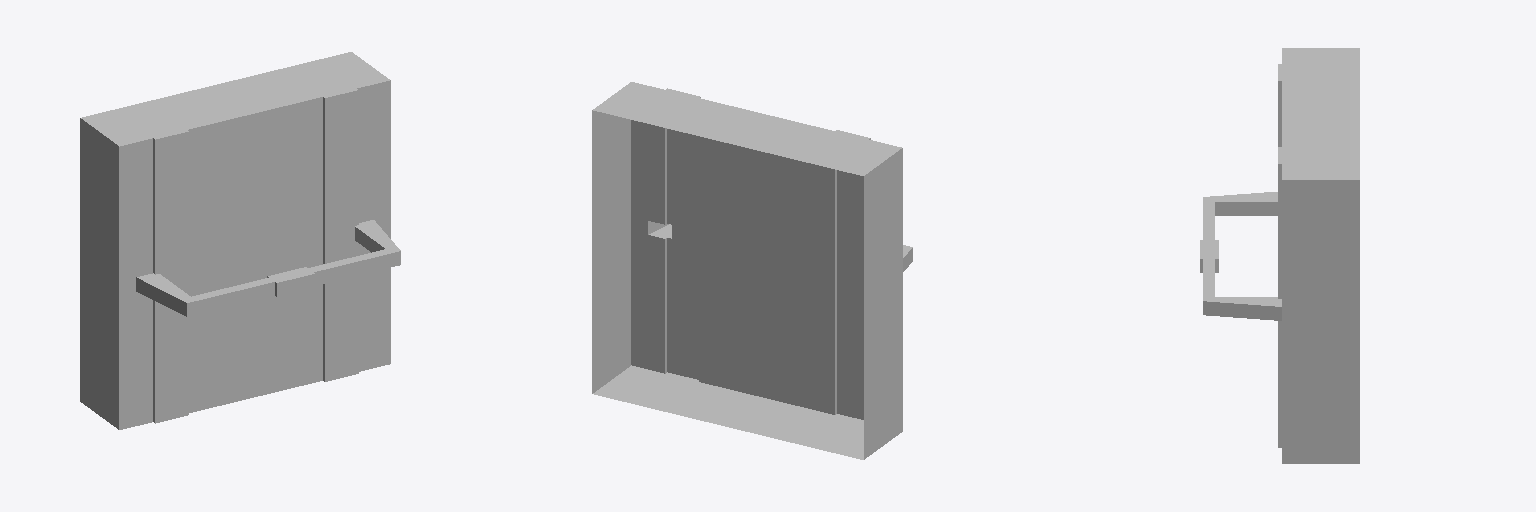
File: track-start-finish.obj
3 views of the same model, side by side, from view 1: azimuth 30°, elevation 25°; view 2: azimuth 150°, elevation 25°; view 3: azimuth 270°, elevation 25° (orthographic).
Visible parts, largest first — view 1: track-start-finish_Cube.037; view 2: track-start-finish_Cube.037; view 3: track-start-finish_Cube.037.
Boxes of the visible parts, x1=… form: track-start-finish_Cube.037: x1=80, y1=52, x2=400, y2=429; track-start-finish_Cube.037: x1=592, y1=82, x2=912, y2=459; track-start-finish_Cube.037: x1=1200, y1=48, x2=1359, y2=463.
Bounding box in the file's own units: 8 × 8 × 4.09.